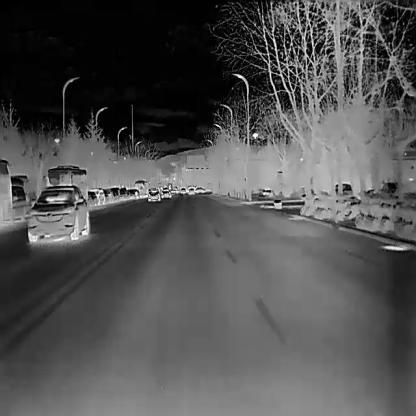car: (25, 183, 91, 244), (41, 162, 87, 202), (2, 182, 33, 220), (335, 181, 352, 198), (89, 188, 105, 204), (105, 185, 120, 201), (134, 178, 147, 195), (147, 186, 160, 200), (160, 187, 172, 200), (128, 188, 139, 200), (119, 185, 126, 199), (170, 186, 179, 196), (195, 186, 206, 193), (180, 187, 187, 194), (189, 187, 195, 194)
